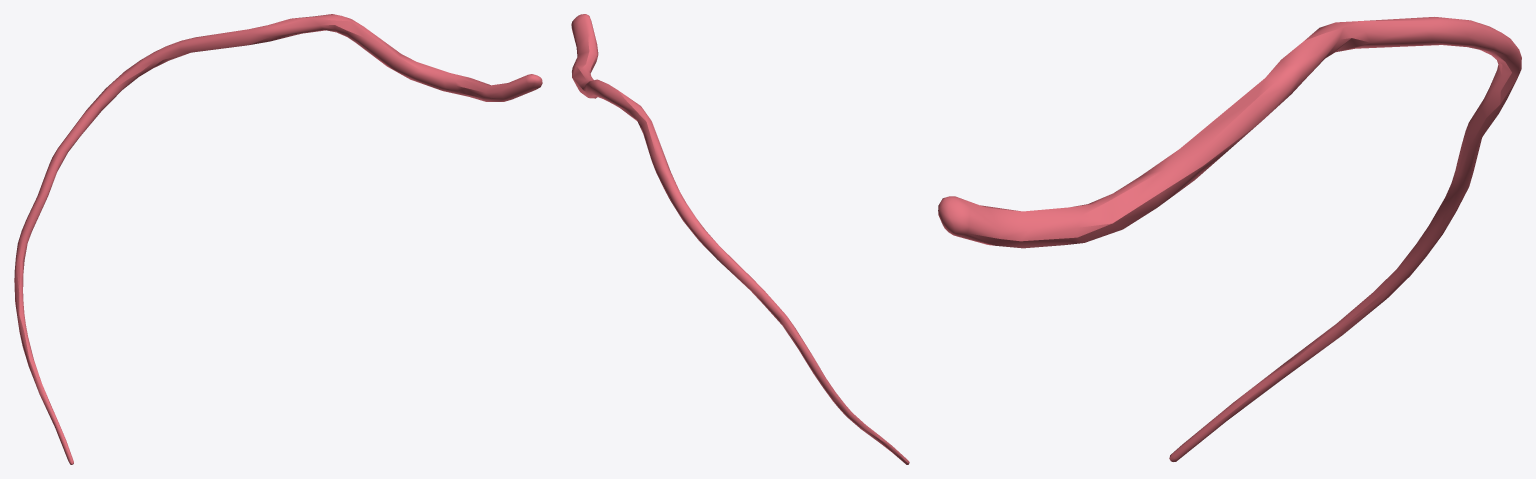
Rendered from fma70446_fj3114.glb.
3 renders of one model, left to right at view 1: azimuth 30°, elevation 25°; view 2: azimuth 150°, elevation 25°; view 3: azimuth 270°, elevation 25°, orthographic. The views are drawn at different scales.
Parts seen in each view (by area): view 1: FMA70446_FJ3114; view 2: FMA70446_FJ3114; view 3: FMA70446_FJ3114.
Boxes of the visible parts, x1,y1,x2,y2 form: FMA70446_FJ3114: (14, 14, 542, 464); FMA70446_FJ3114: (571, 14, 909, 464); FMA70446_FJ3114: (938, 17, 1521, 461).
Size of the model in its own units: 0.0549 by 0.045 by 0.0355.
